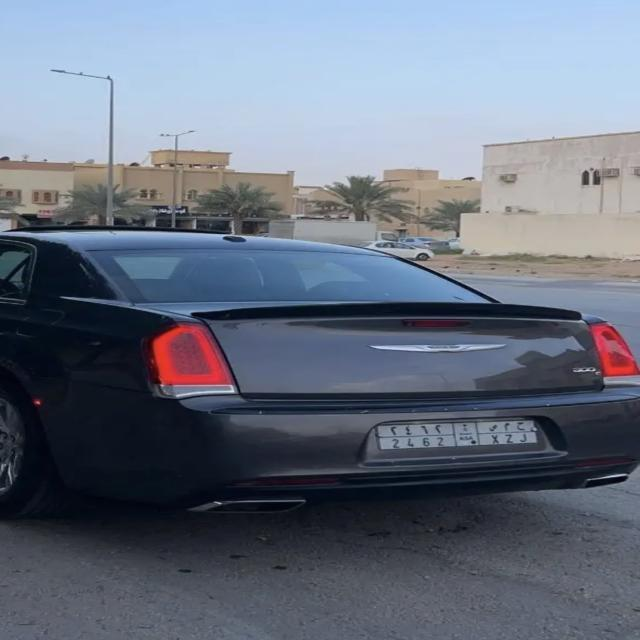license_plate: (376, 420, 538, 447)
